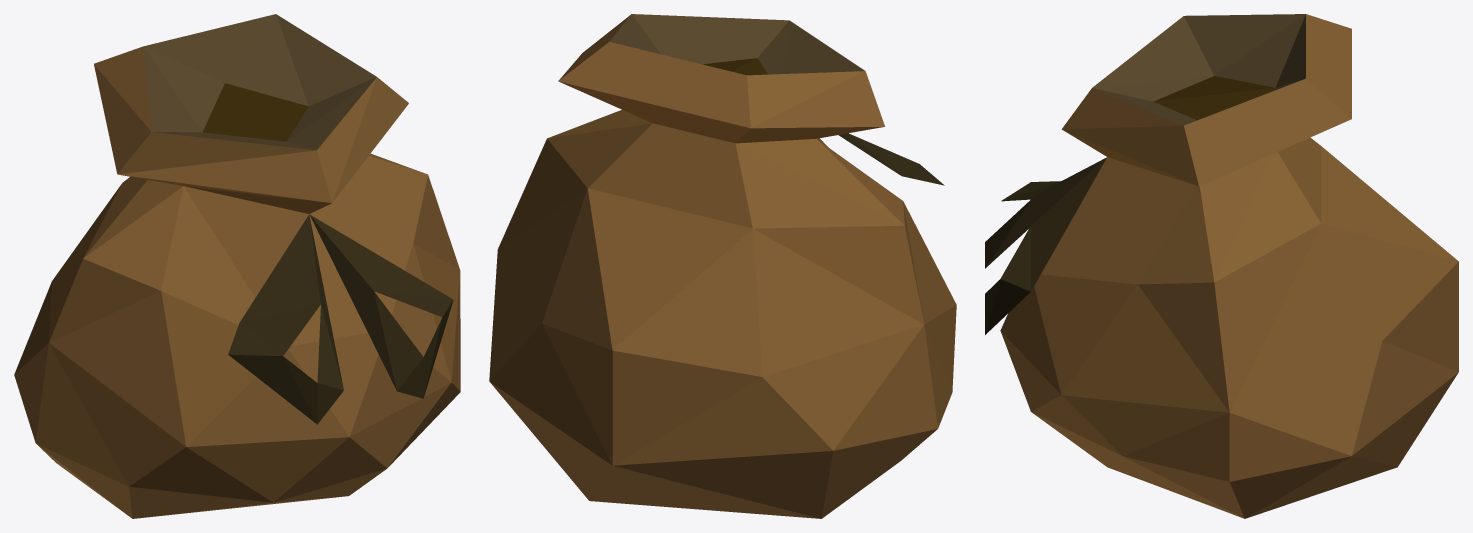
File: meat-pouch.gltf
3 renders of one model, left to right at view 1: azimuth 30°, elevation 25°; view 2: azimuth 150°, elevation 25°; view 3: azimuth 270°, elevation 25°, orthographic. The views are drawn at different scales.
Bounding box in the file's own units: 32 × 29 × 31.
Materials: 1 (1 with a texture image).
